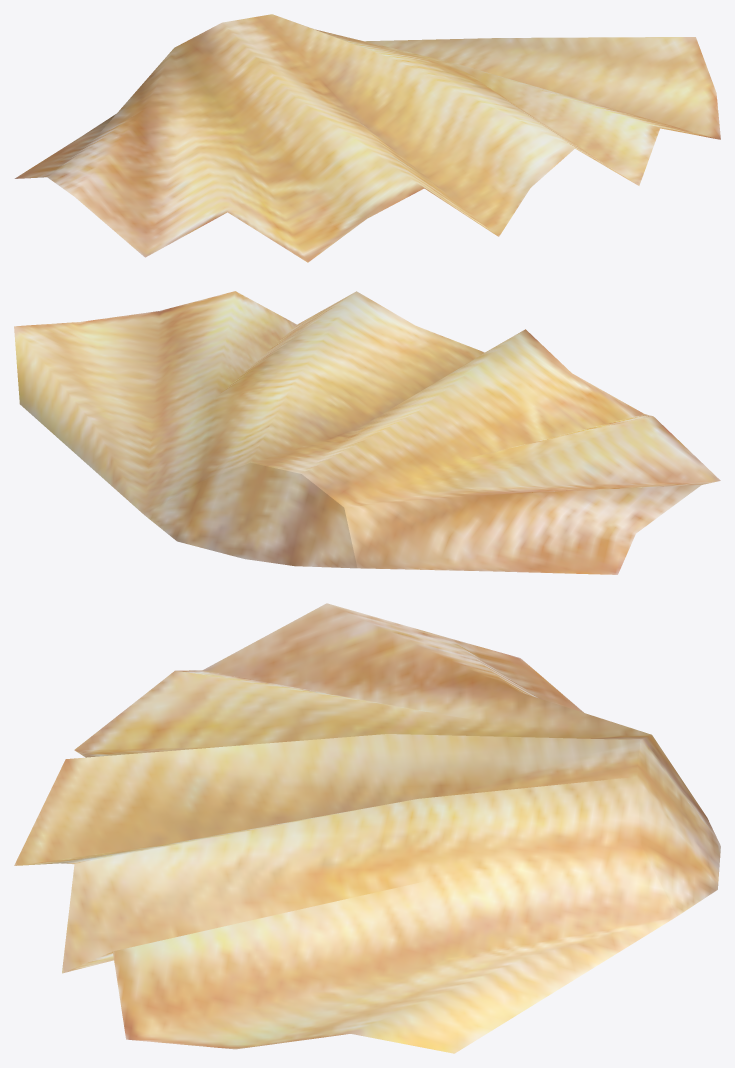
The model's file is fb_plxd_haibian_04.FBX.
3 views of the same model, one above another, from view 1: azimuth 30°, elevation 25°; view 2: azimuth 150°, elevation 25°; view 3: azimuth 270°, elevation 25° (orthographic). The views are drawn at different scales.
Visible parts, largest first — view 1: xbh2_hailuozu_01_04; view 2: xbh2_hailuozu_01_04; view 3: xbh2_hailuozu_01_04.
Part boxes in pixels (x1,y1,x2,y2): xbh2_hailuozu_01_04: (14, 14, 720, 262); xbh2_hailuozu_01_04: (14, 291, 720, 574); xbh2_hailuozu_01_04: (14, 603, 720, 1053).
Bounding box in the file's own units: 61.02 × 6.03 × 42.34.
